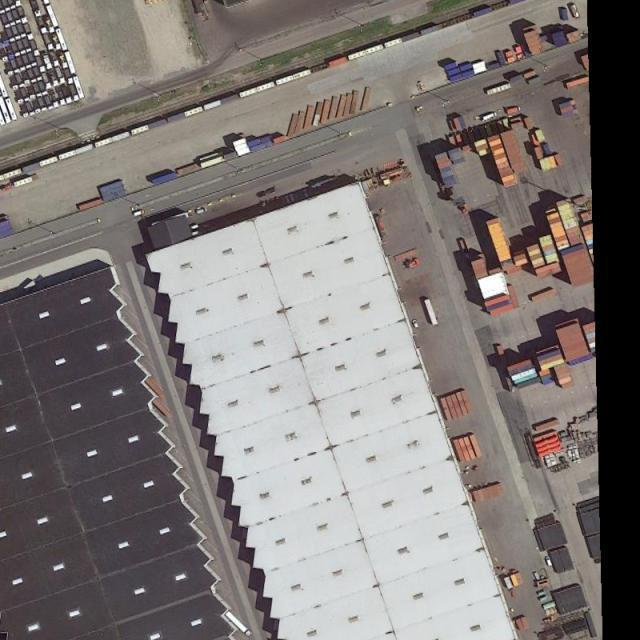vehicle: (482, 110, 497, 120), (506, 105, 522, 114), (133, 208, 146, 218), (195, 207, 208, 214), (266, 186, 276, 194), (411, 318, 418, 329), (256, 190, 266, 197)
